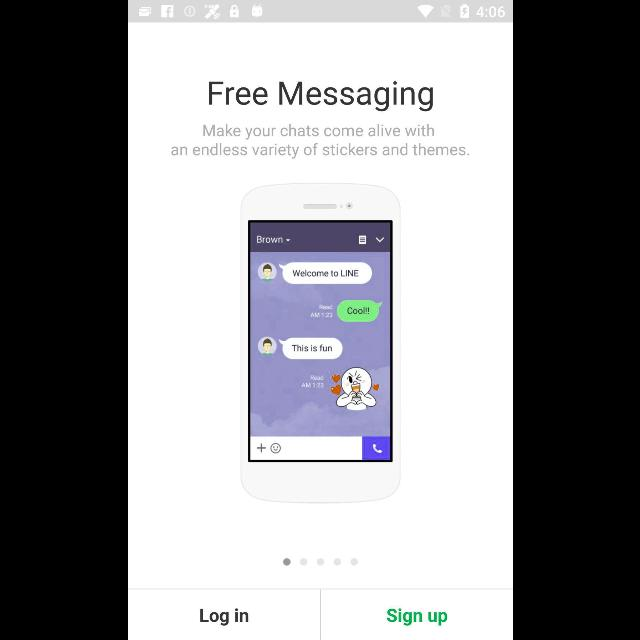image: (240, 182, 400, 503)
pageindicator: (282, 558, 358, 566)
text: (170, 124, 468, 160), (208, 80, 432, 112)
textbutton: (127, 588, 319, 640), (320, 588, 512, 640)
uppertaskbar: (128, 1, 512, 23)
